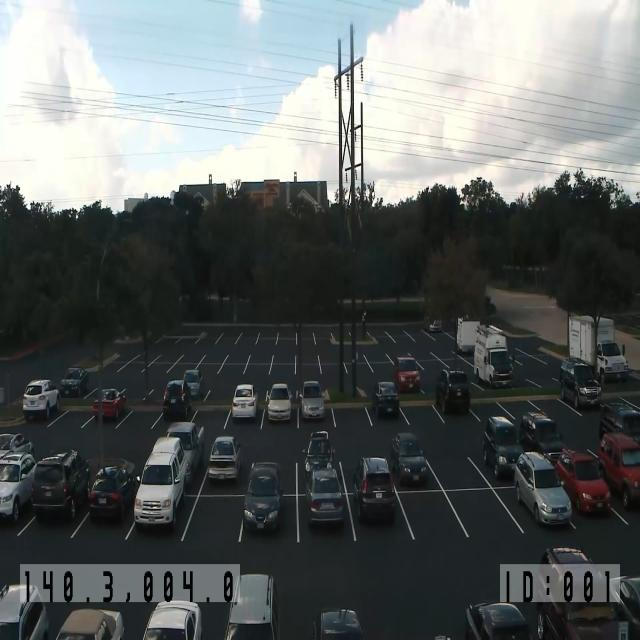car: (537, 546, 639, 640), (134, 437, 187, 528), (514, 451, 572, 526), (31, 449, 90, 520), (224, 572, 280, 640), (555, 448, 611, 515), (598, 432, 640, 508), (352, 456, 396, 522), (243, 461, 282, 533), (0, 583, 49, 640), (88, 463, 136, 521), (482, 415, 524, 479), (0, 451, 36, 523), (465, 601, 533, 639), (304, 466, 344, 527), (519, 411, 564, 464), (142, 600, 202, 639), (165, 422, 204, 482), (559, 357, 601, 409), (56, 608, 124, 639), (391, 432, 427, 486), (598, 401, 640, 446), (152, 435, 189, 482), (310, 608, 364, 640), (435, 368, 470, 414), (208, 435, 242, 482), (22, 379, 60, 420), (302, 430, 334, 478), (610, 574, 640, 624), (596, 340, 628, 384), (287, 188, 324, 220), (162, 379, 192, 417), (92, 388, 126, 420), (266, 382, 292, 423), (394, 354, 420, 393), (232, 383, 258, 421), (300, 381, 325, 420), (0, 432, 34, 460), (374, 381, 399, 417), (60, 367, 88, 398), (183, 368, 203, 398), (429, 319, 442, 332), (434, 634, 451, 639)
